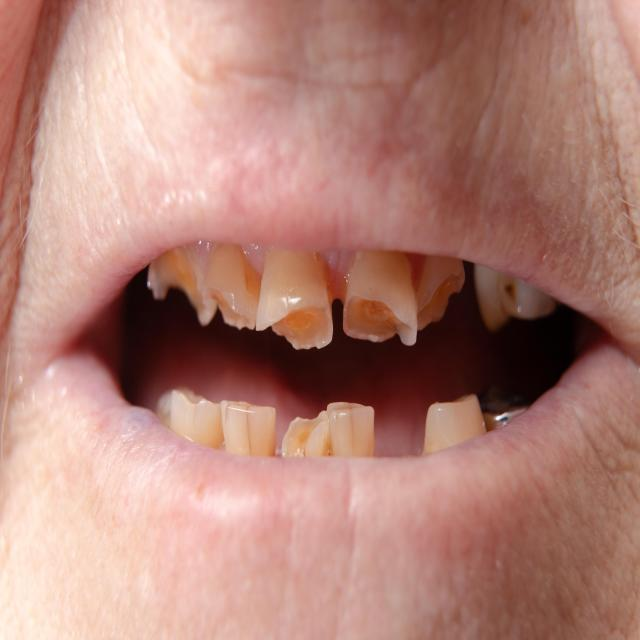caries: (150, 250, 207, 319), (343, 294, 417, 346), (271, 302, 333, 350), (417, 272, 465, 331), (282, 410, 328, 458), (203, 286, 253, 330)
crack: (255, 249, 333, 350), (343, 251, 417, 346), (147, 245, 218, 326), (473, 265, 557, 330), (201, 245, 261, 330), (422, 395, 486, 455), (416, 255, 465, 331), (221, 401, 277, 457), (170, 390, 223, 448), (327, 402, 375, 458), (282, 410, 330, 457)
tooth: (505, 284, 511, 292)
